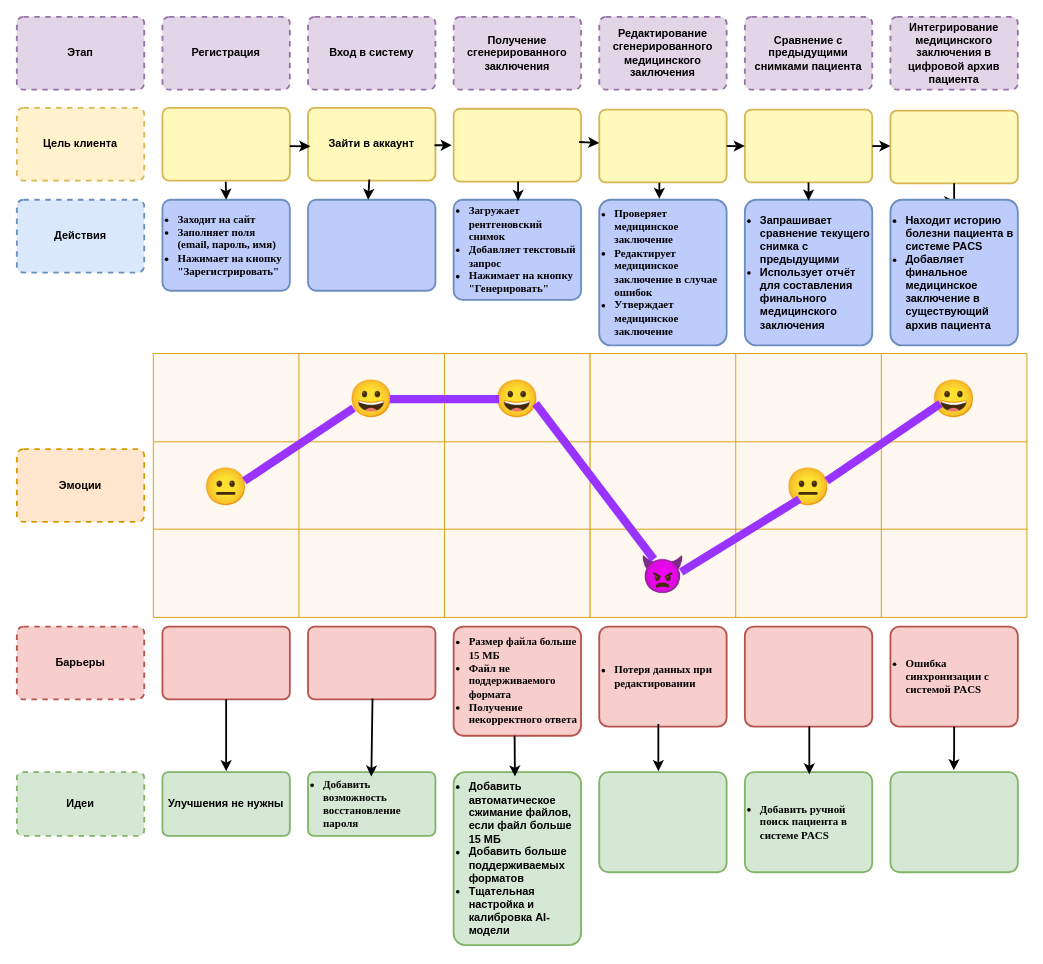
Some shapes in this 1043 by 964 pixel diagram are drawn without their labels. The shapes that lost their labels are listed below. From the top down, each one's centre as x and y in pixels, then its label:
At (225,143): "Зарегистрировать аккаунт".
At (516,144): "Получить медицинское заключение".
At (662,145): "Составить финальное медицинское заключение".
At (808,145): "Получить полную картину истории болезни пациента".
At (953,146): "Сохранить финальное медицинское заключение в архив".
At (371,244): "Вбивает данные аккаунта Заходит в систему".
At (225,662): "Нет барьеров".
At (371,662): "Забыл пароль от аккаунта".
At (808,676): "Не найдена история болезни пациента".
At (662,822): "Добавить функцию сохранения изменений каждые 30 секунд".
At (953,822): "Сохранять данные локально и помечать их для повторной отправки".
